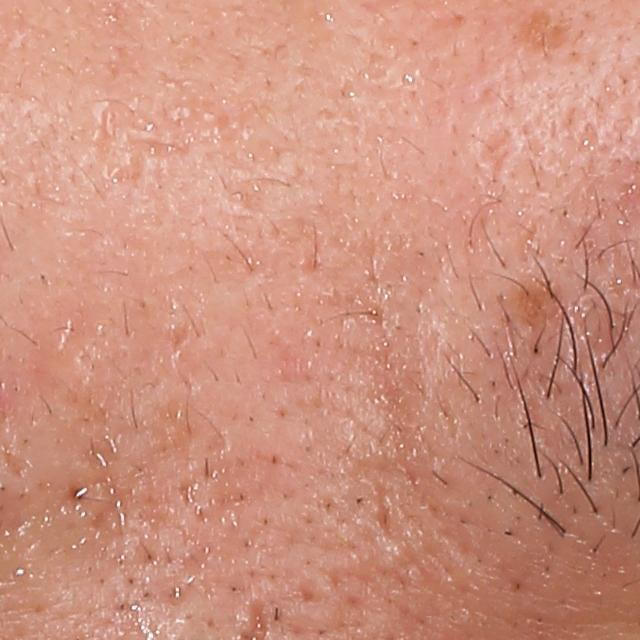atrophic_scar: (357, 378, 423, 496), (83, 444, 137, 538), (476, 125, 521, 192), (517, 5, 575, 55), (373, 480, 395, 541)
